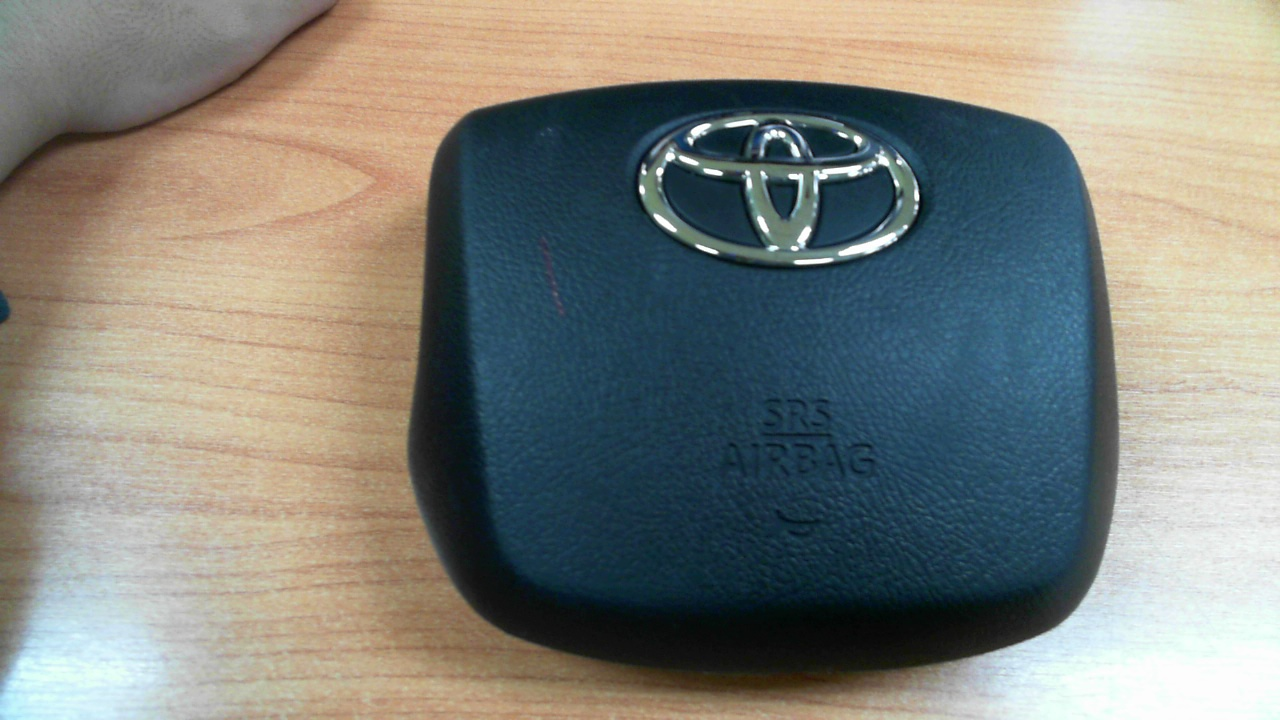Airbag: (405, 77, 1120, 673)
Toyota: (638, 113, 920, 265)
